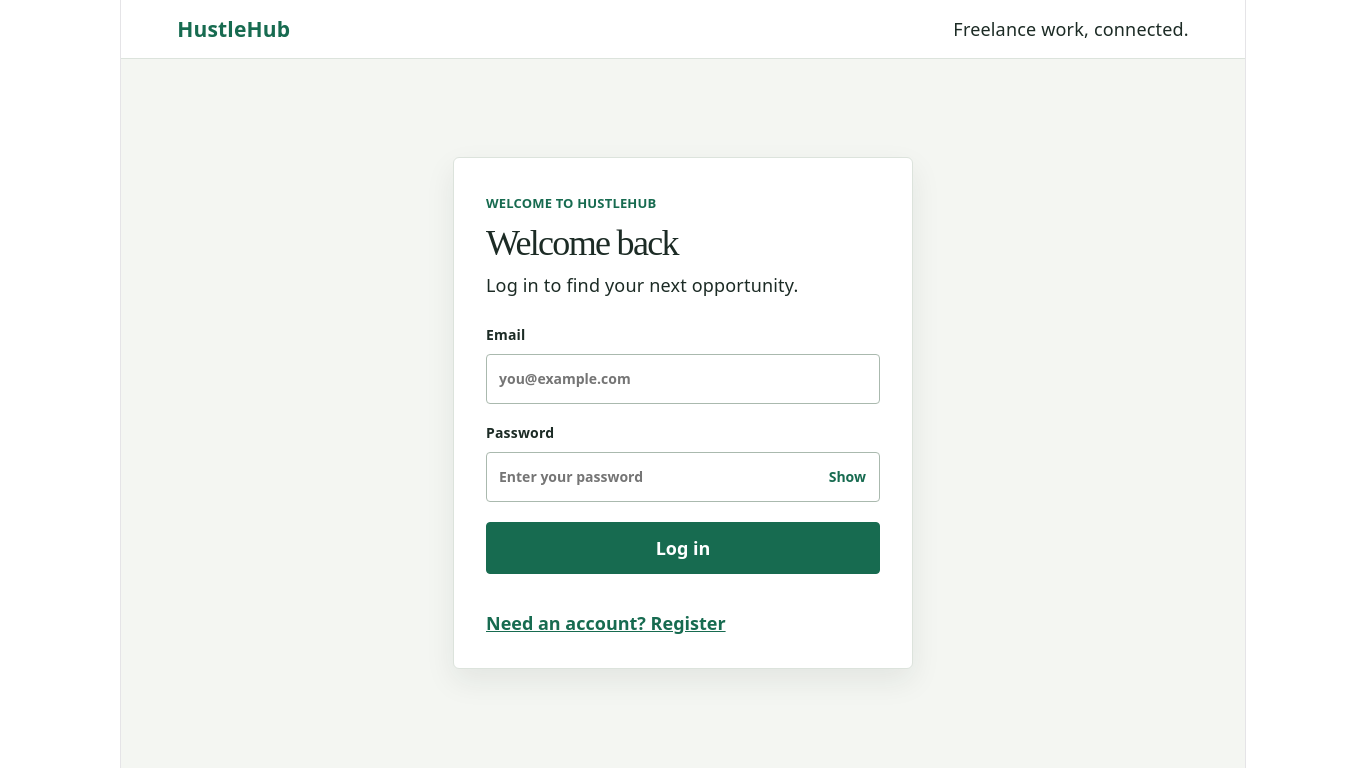
Test: App authentication screens › shows the API error when login fails and stores no token
Type "cara@example.com" into the field labelled "Email" at (683, 379), box [486, 354, 880, 404]
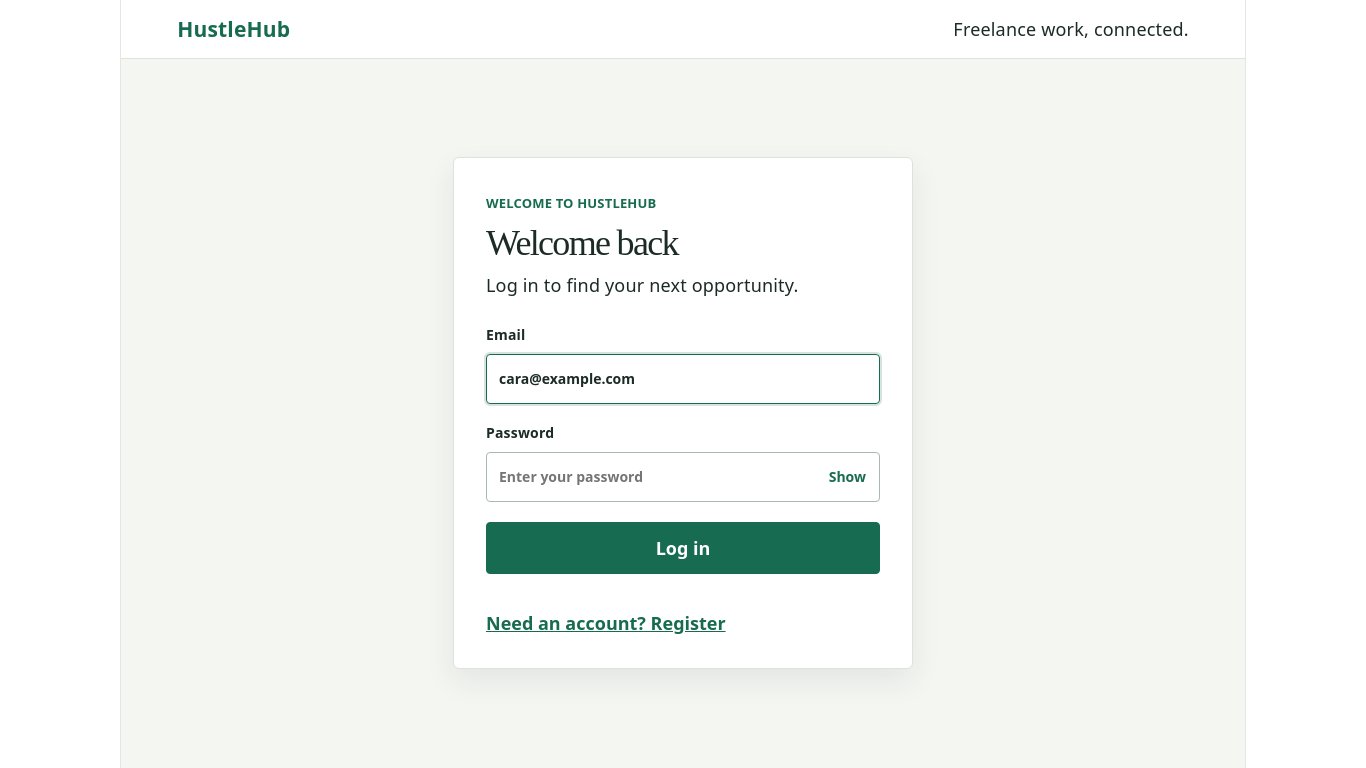
Type "Str0ngPass!" into the password field with placeholder "Enter your password" at (683, 477), box [486, 452, 880, 502]
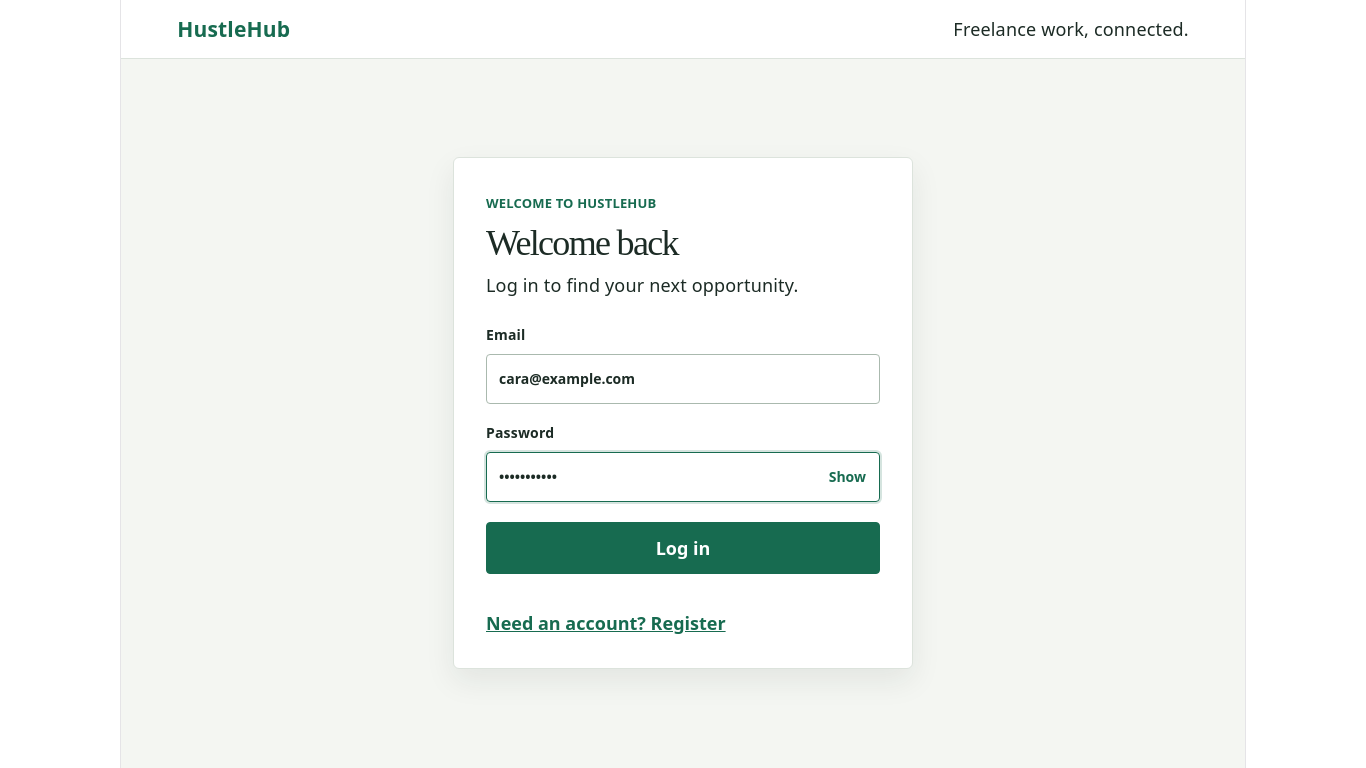
Click the button "Log in" at (683, 548), box [486, 522, 880, 574]
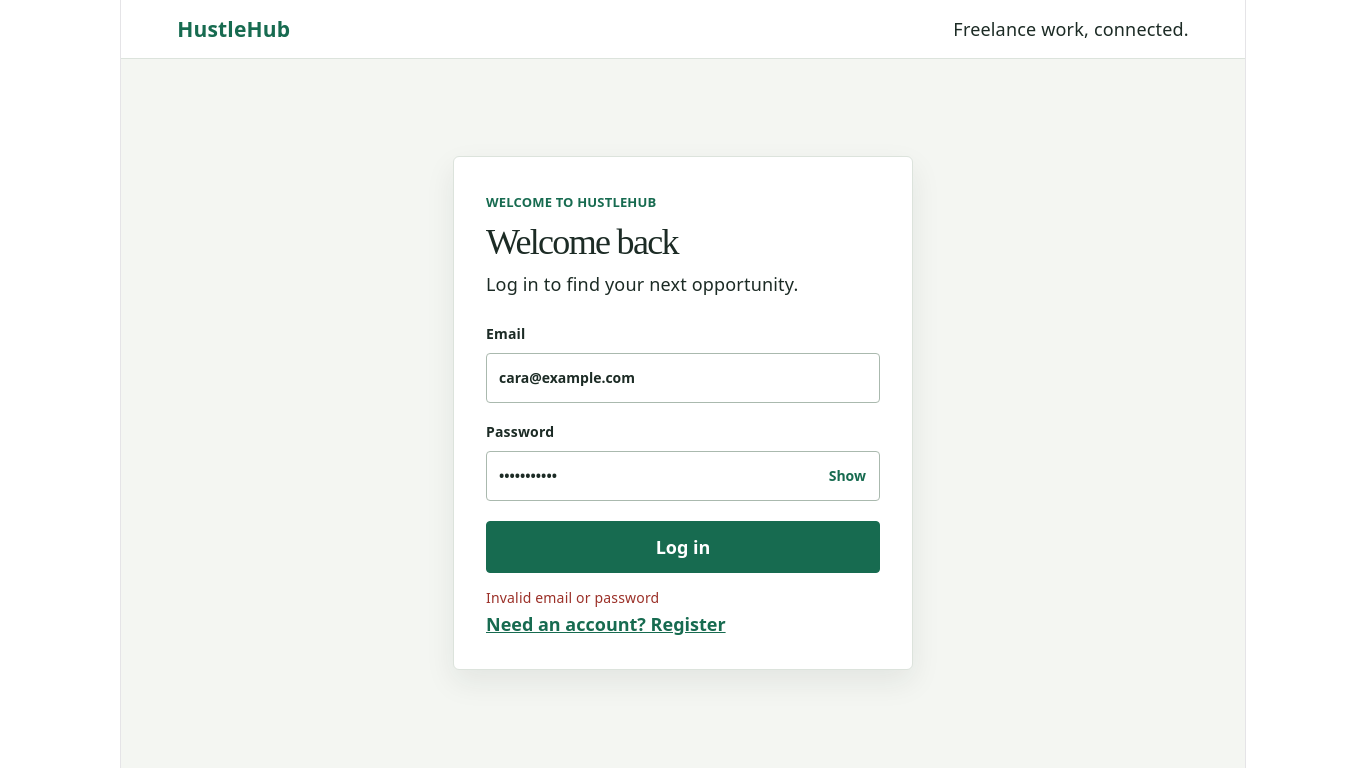
Now the text "Invalid email or password" is shown, box [486, 588, 659, 607]
